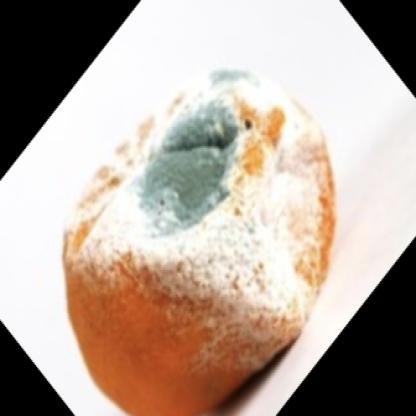rotten: (62, 69, 337, 416)
